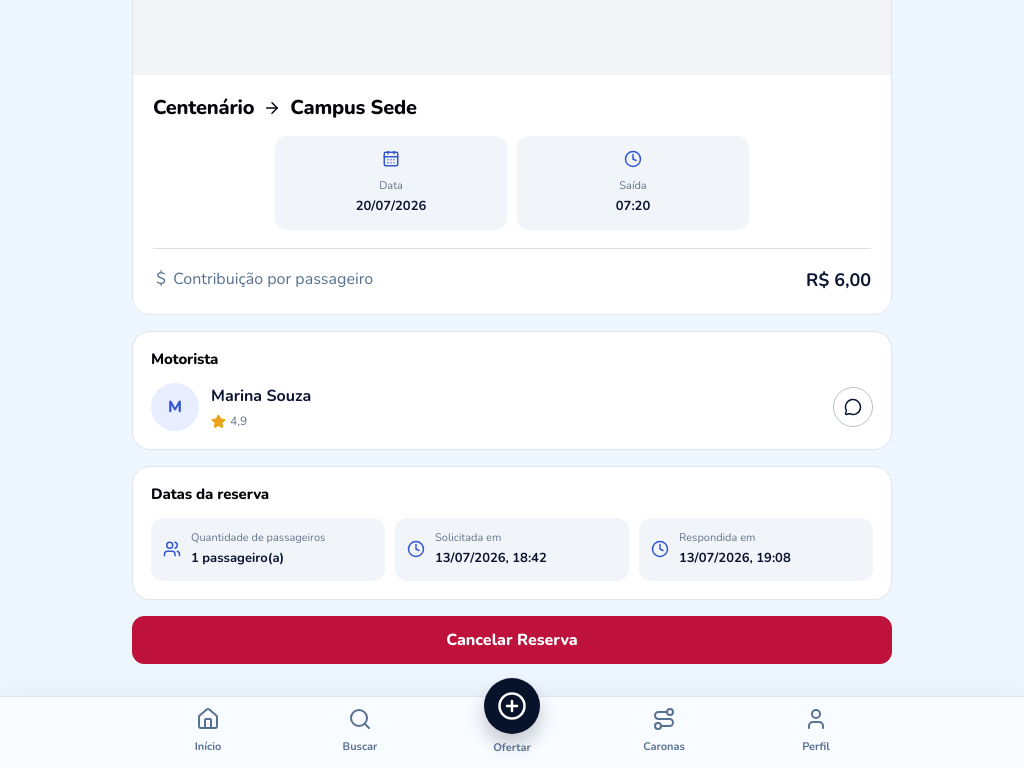
Test case: modal de cancelamento › abre o modal ao clicar em "Cancelar Reserva" sem cancelar de imediato
(page scrolled)
Click the button "Cancelar Reserva".
click(512, 640)  # box x1=132 y1=616 x2=892 y2=664
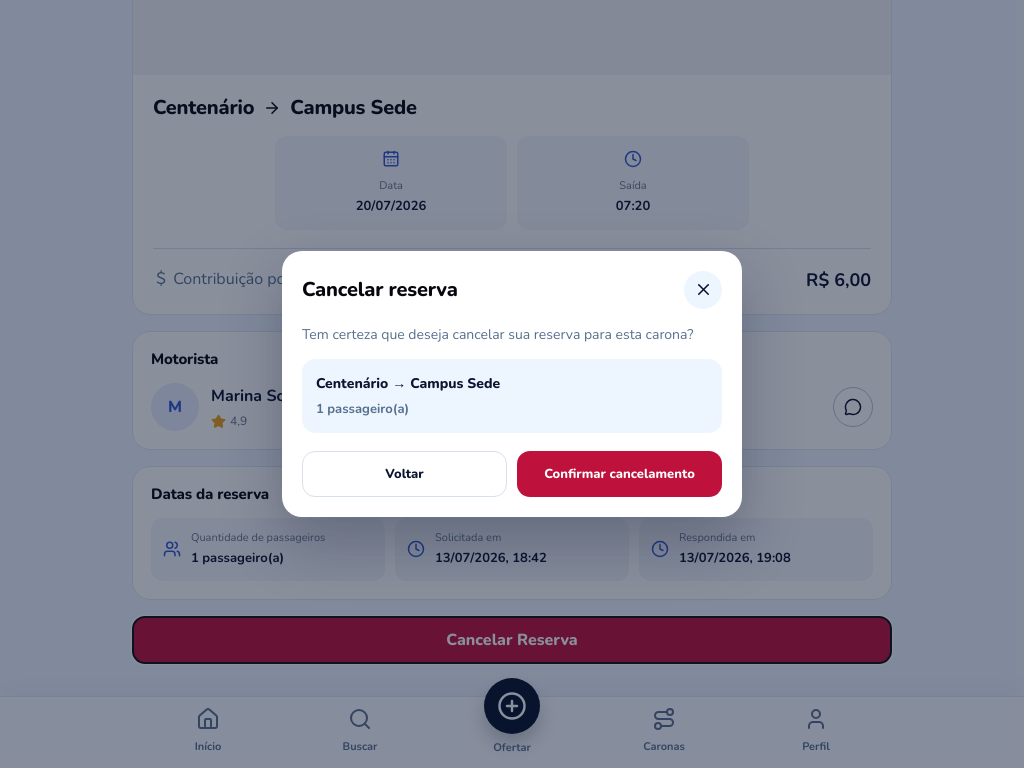
Now the heading "Cancelar reserva" is shown, box x1=302 y1=277 x2=458 y2=302
